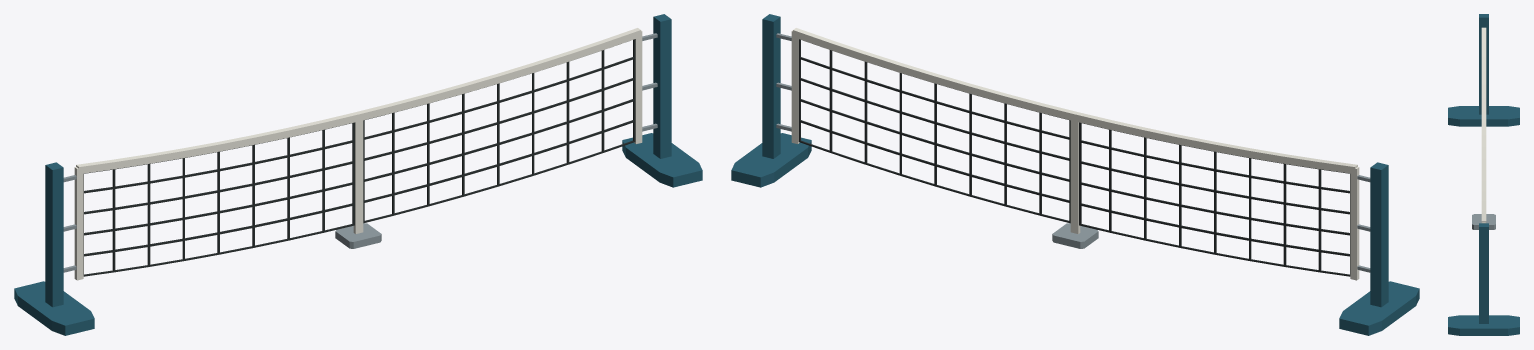
3 views of the same model, side by side, from view 1: azimuth 30°, elevation 25°; view 2: azimuth 150°, elevation 25°; view 3: azimuth 270°, elevation 25° (orthographic). The views are drawn at different scales.
Visible parts, largest first — view 1: Net_ContinuousSaggingPerforatedMesh, Band_ContinuousSaggingTopRibbon, Post_Left, Post_Right, Foot_Left, Foot_Right, Band_LeftVerticalBorder, Strap_CentreToGroundAnchor, Band_RightVerticalBorder, Anchor_IndependentCentreGroundSeat; view 2: Net_ContinuousSaggingPerforatedMesh, Band_ContinuousSaggingTopRibbon, Post_Left, Post_Right, Foot_Left, Foot_Right, Band_LeftVerticalBorder, Strap_CentreToGroundAnchor, Band_RightVerticalBorder, Anchor_IndependentCentreGroundSeat; view 3: Foot_Right, Foot_Left, Band_ContinuousSaggingTopRibbon, Post_Right, Post_Left, Anchor_IndependentCentreGroundSeat.
Boxes of the visible parts, x1,y1,x2,y2 form: Net_ContinuousSaggingPerforatedMesh: (83,39,635,276); Band_ContinuousSaggingTopRibbon: (76,28,640,173); Post_Left: (45,162,63,307); Post_Right: (653,14,671,158); Foot_Left: (14,281,94,335); Foot_Right: (622,133,702,187); Band_LeftVerticalBorder: (74,167,83,280); Strap_CentreToGroundAnchor: (353,120,363,233); Band_RightVerticalBorder: (634,30,642,143); Anchor_IndependentCentreGroundSeat: (335,223,381,248); Net_ContinuousSaggingPerforatedMesh: (798,39,1350,276); Band_ContinuousSaggingTopRibbon: (793,28,1357,173); Post_Left: (1370,162,1388,307); Post_Right: (762,14,780,158); Foot_Left: (1339,281,1419,335); Foot_Right: (731,133,811,187); Band_LeftVerticalBorder: (1350,167,1359,280); Strap_CentreToGroundAnchor: (1070,120,1080,233); Band_RightVerticalBorder: (791,30,799,143); Anchor_IndependentCentreGroundSeat: (1052,223,1098,248); Foot_Right: (1448,315,1519,335); Foot_Left: (1448,106,1519,126); Band_ContinuousSaggingTopRibbon: (1481,27,1486,222); Post_Right: (1479,223,1488,323); Post_Left: (1479,14,1488,114); Anchor_IndependentCentreGroundSeat: (1472,214,1495,229).
Bounding box in the file's own units: 5.28 × 1.15 × 0.72.
